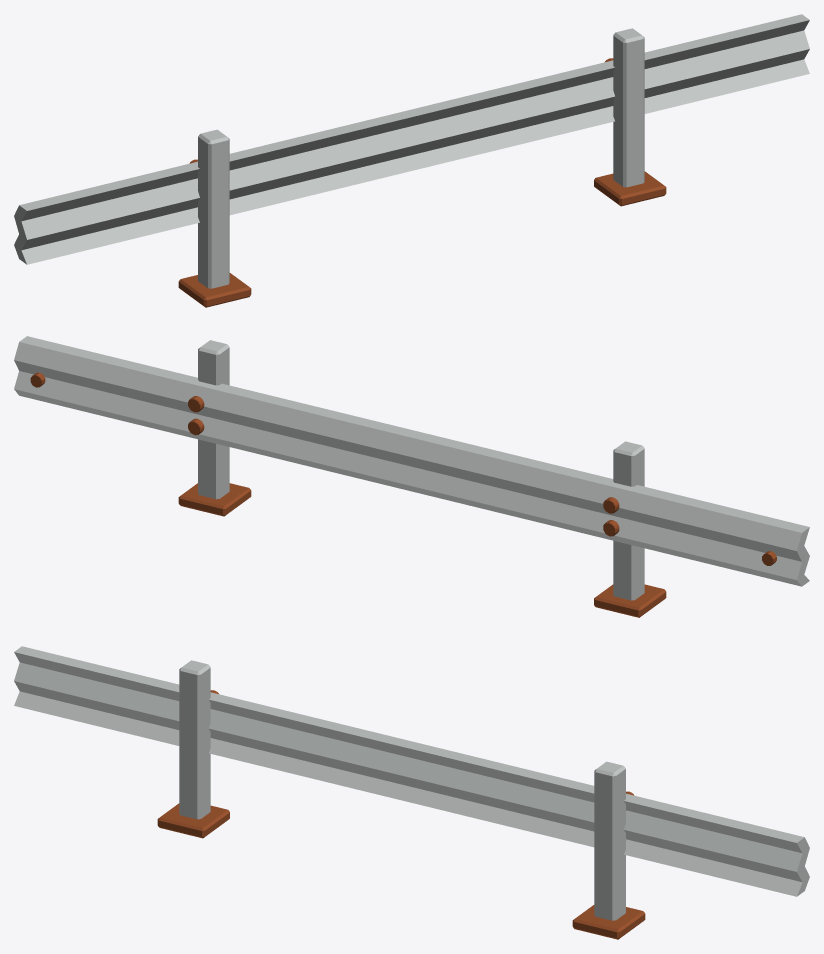
The model's file is guardrail.glb.
3 renders of one model, top to bottom at view 1: azimuth 30°, elevation 25°; view 2: azimuth 150°, elevation 25°; view 3: azimuth 330°, elevation 25°, orthographic.
Parts seen in each view (by area): view 1: guardrail; view 2: guardrail; view 3: guardrail.
Boxes of the visible parts, bbox=[...] form: guardrail: bbox=[14, 14, 809, 307]; guardrail: bbox=[14, 336, 809, 617]; guardrail: bbox=[14, 646, 809, 939].
Size of the model in its own units: 3.96 by 0.76 by 0.3025.
